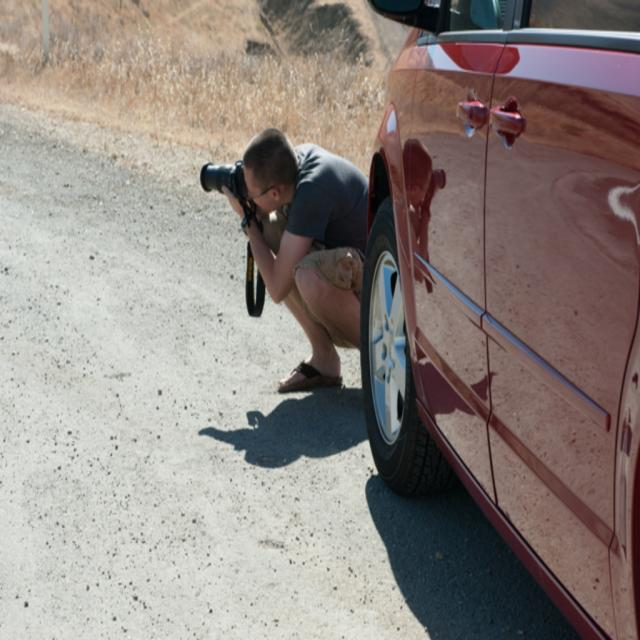car: (324, 12, 621, 620)
